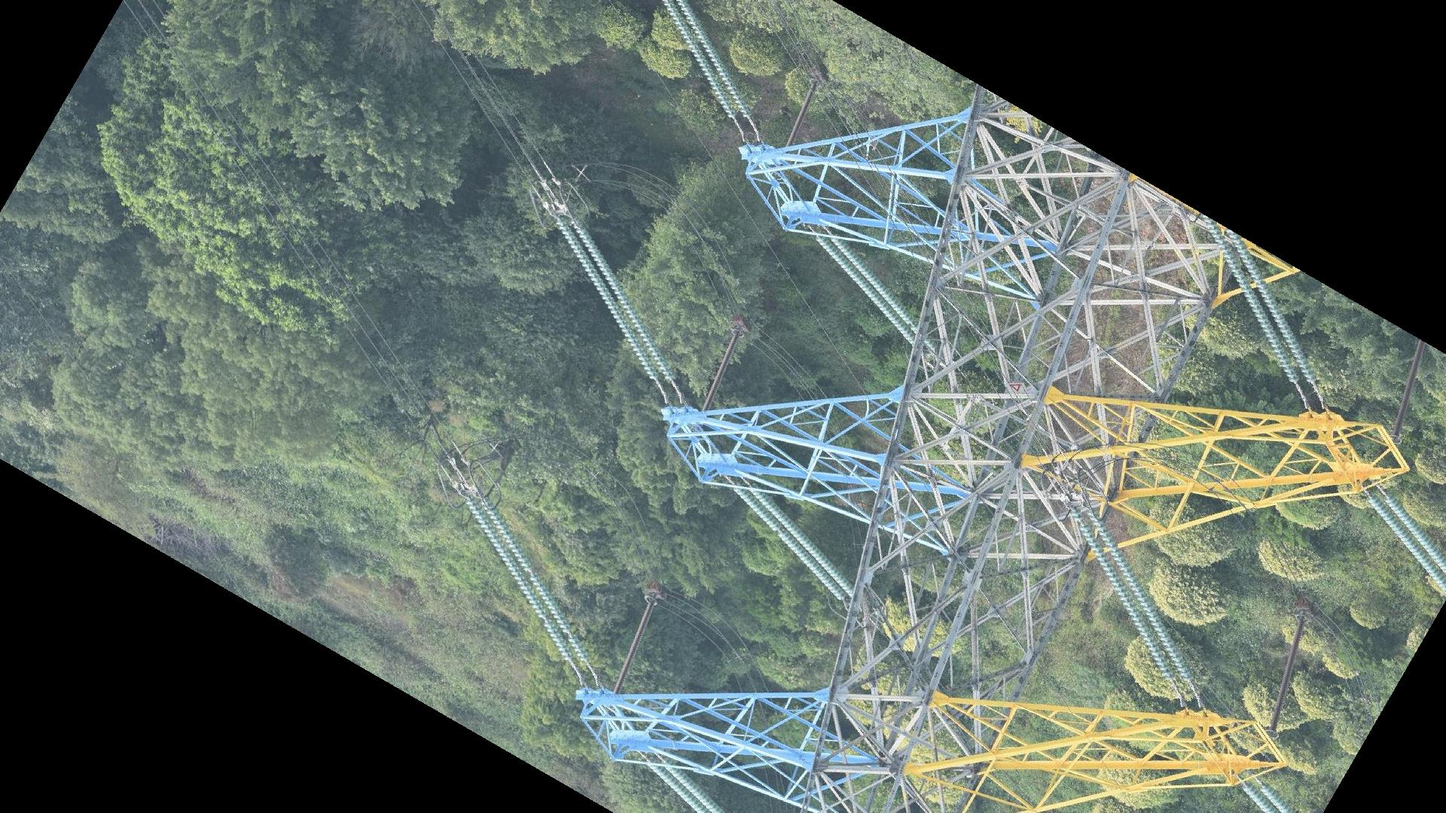insulator: (1069, 503, 1194, 684), (464, 494, 590, 664), (554, 219, 676, 383), (1203, 215, 1318, 386), (813, 233, 938, 352), (731, 482, 856, 601), (658, 1, 754, 123), (1366, 492, 1446, 597), (641, 753, 733, 813), (1267, 618, 1307, 732), (612, 599, 656, 693), (1391, 337, 1426, 437), (700, 330, 741, 412), (784, 82, 819, 147), (1241, 781, 1295, 813)
insulator_stringdrop: (536, 609, 556, 629), (562, 625, 581, 644), (523, 565, 541, 582), (772, 524, 789, 537)
